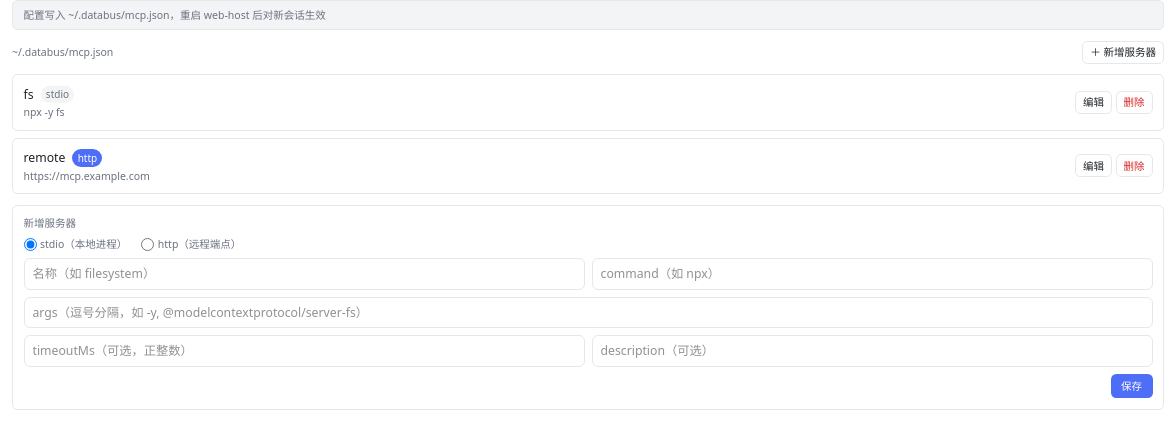
Test: McpPanel 关键交互 › 后端校验失败 → 表单下方渲染错误原文，不显示成功 hint
Expected: the text "fs" is shown, x1=24 y1=86 x2=34 y2=103
Click the button "＋ 新增服务器": click(1123, 52) x1=1082 y1=40 x2=1164 y2=64
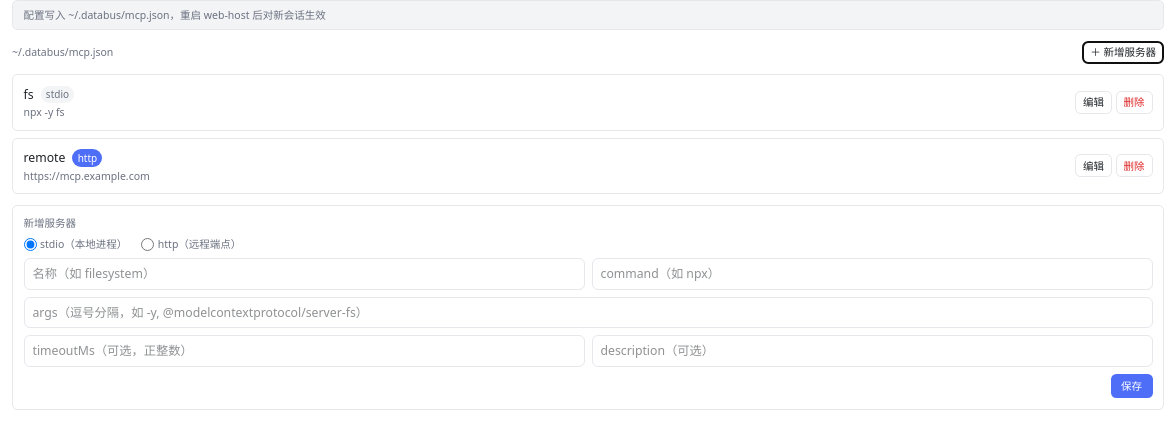
In the field with placeholder "名称（如 filesystem）": (304, 274) x1=24 y1=258 x2=584 y2=290, type "x"
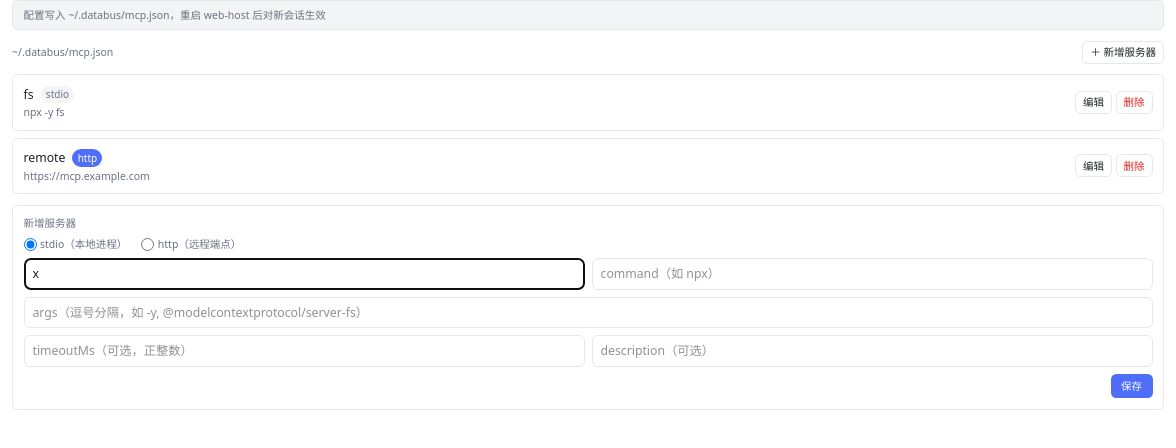
In the field with placeholder "command（如 npx）": (872, 274) x1=592 y1=258 x2=1152 y2=290, type "npx"
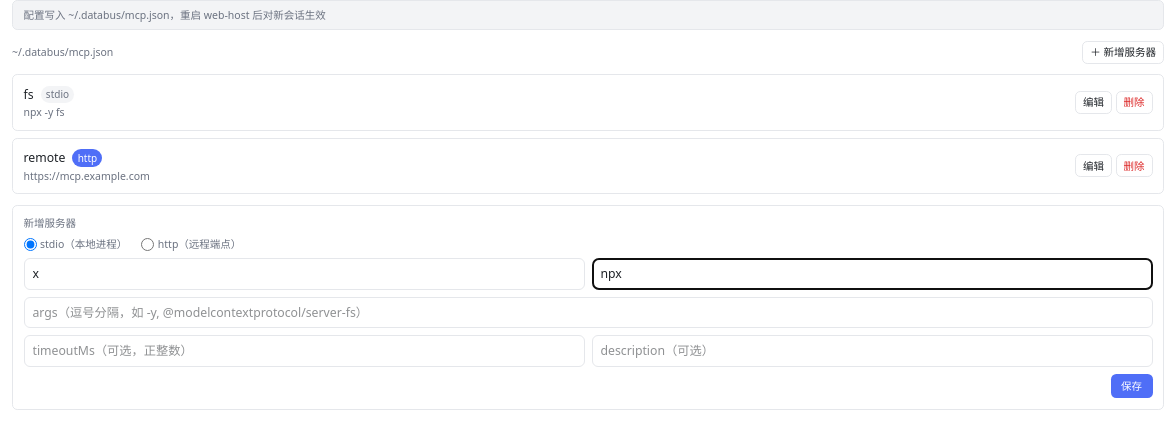
Click the button "保存": click(1132, 386) x1=1110 y1=374 x2=1152 y2=398
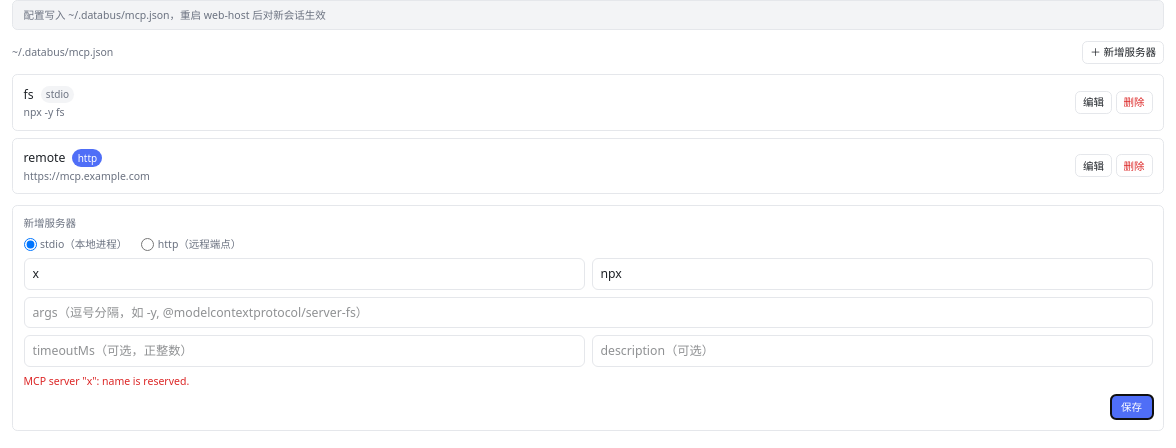
Result: the text "MCP server \"x\": name is reserved." is shown at x1=24 y1=374 x2=189 y2=388
